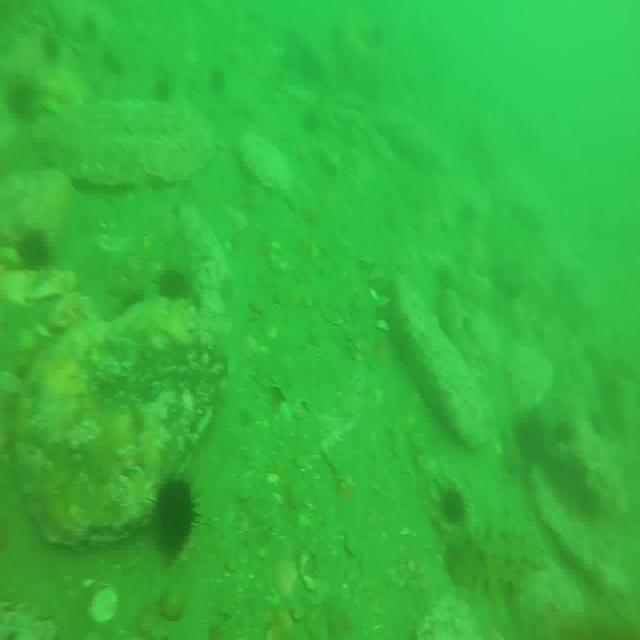echinus: (155, 478, 195, 554), (17, 227, 57, 274), (6, 80, 36, 125), (160, 273, 189, 312), (151, 76, 175, 111), (444, 490, 465, 520), (43, 31, 62, 63), (82, 6, 96, 43), (211, 66, 227, 94)
holothurian: (448, 529, 542, 592)
scallop: (88, 590, 120, 624)
